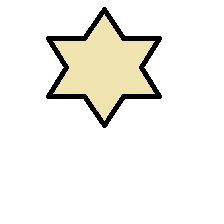star: (46, 6, 163, 129)
